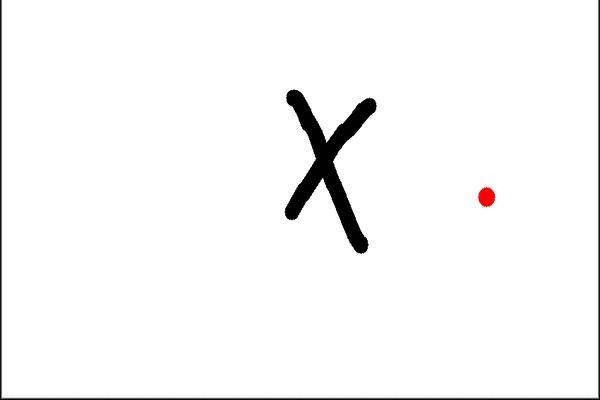Z: (266, 63, 391, 262)
